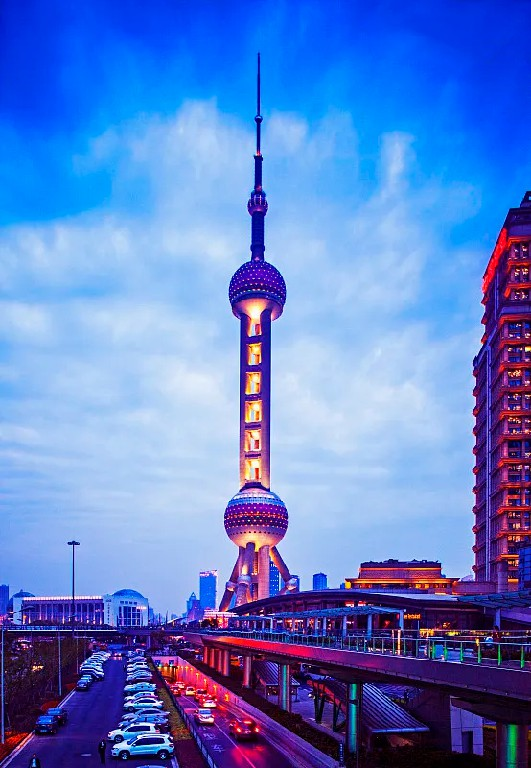Oriental: (219, 52, 294, 612)
